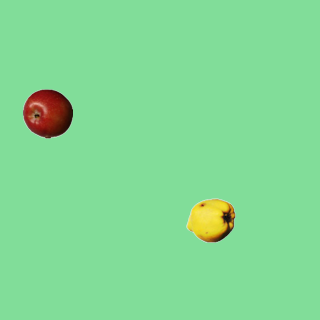Apple Braeburn: (22, 88, 72, 138)
Quince: (185, 195, 235, 245)
